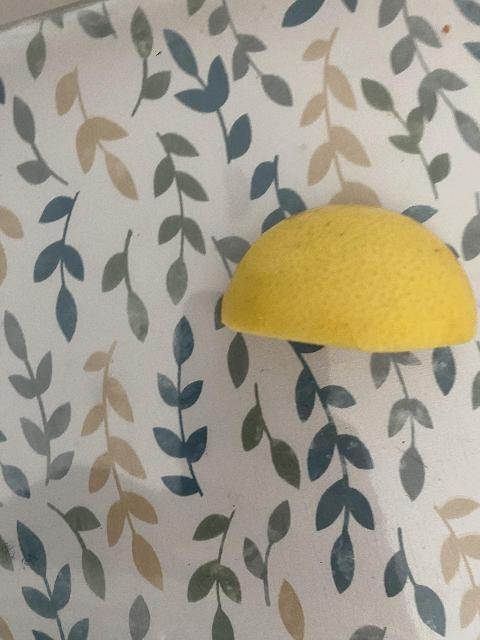Organik: (225, 203, 480, 351)
